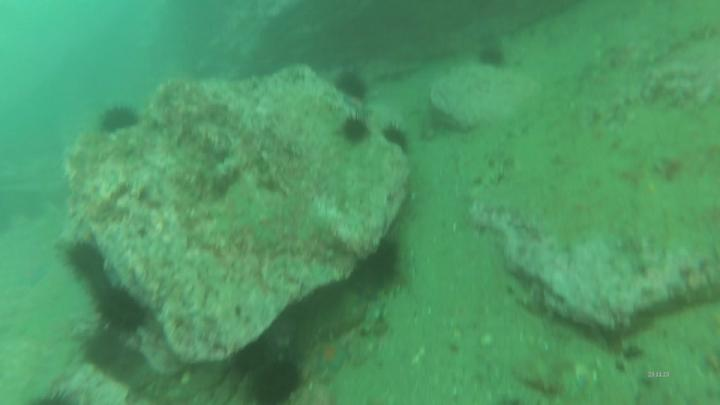echinus: (90, 284, 151, 333), (355, 240, 403, 302), (57, 241, 111, 290), (249, 357, 304, 405), (95, 103, 142, 136), (335, 112, 373, 147), (332, 70, 373, 102), (381, 121, 414, 153)
starfish: (313, 340, 353, 375)
